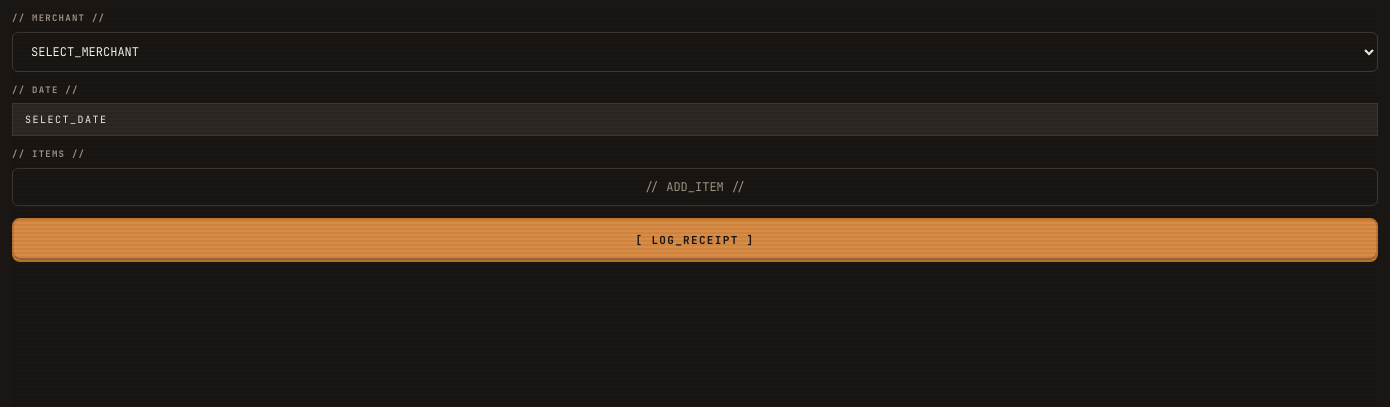
Test: ManualReceiptForm › Selecting Other... shows inline creation form › reveals merchant name and emoji inputs when Other... is selected
The width and height of the screenshot is (1390, 407).
Select "Other..." in the dropdown labelled "// MERCHANT //" at (695, 52), box [12, 32, 1378, 72]
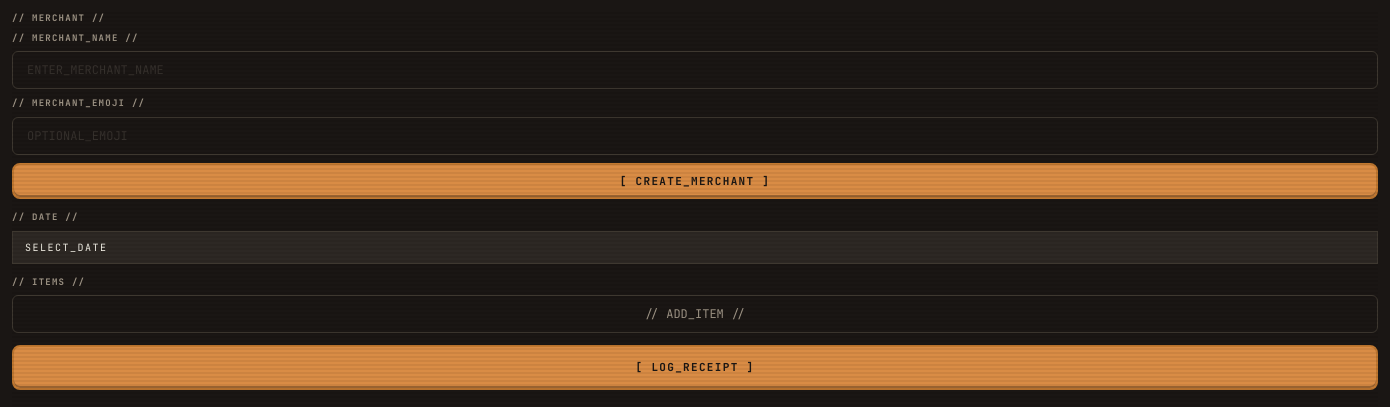
Now the button "[ CREATE_MERCHANT ]" is shown, box [12, 162, 1378, 199]
